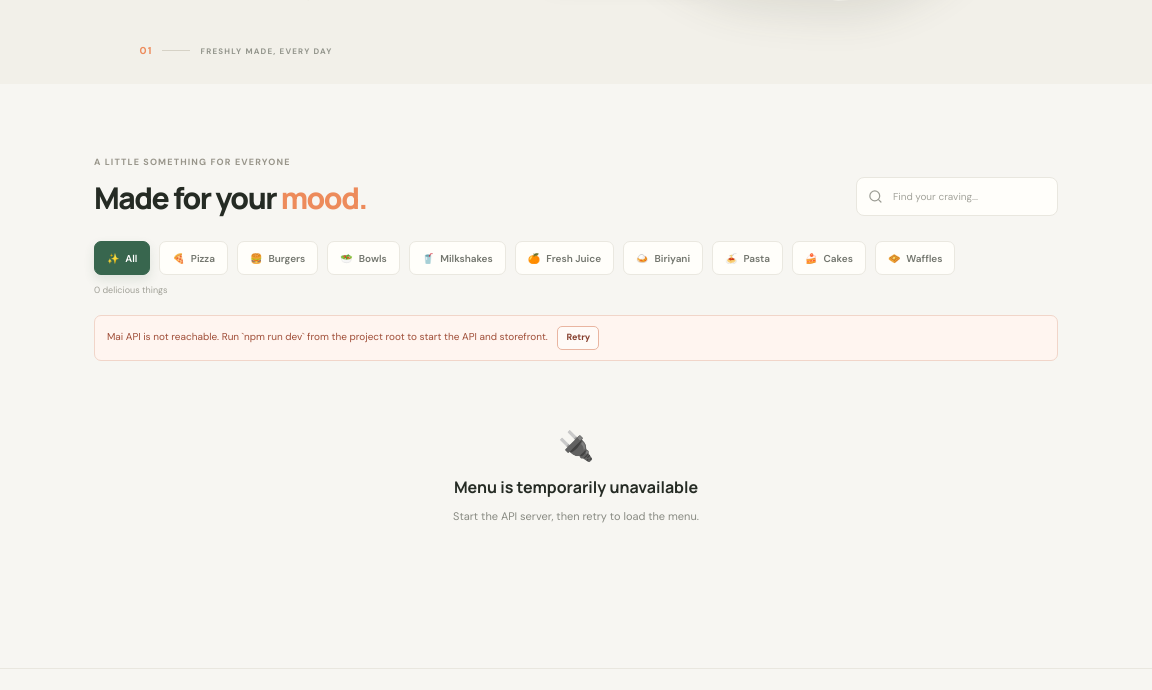
Test: Mai ordering experience › explains an unavailable API and retries loading the menu
(page scrolled)
Expected: the message shows "Mai API is not reachable", [107, 330, 548, 343]
Click the button "Retry".
click(578, 338)  # box [558, 326, 599, 350]
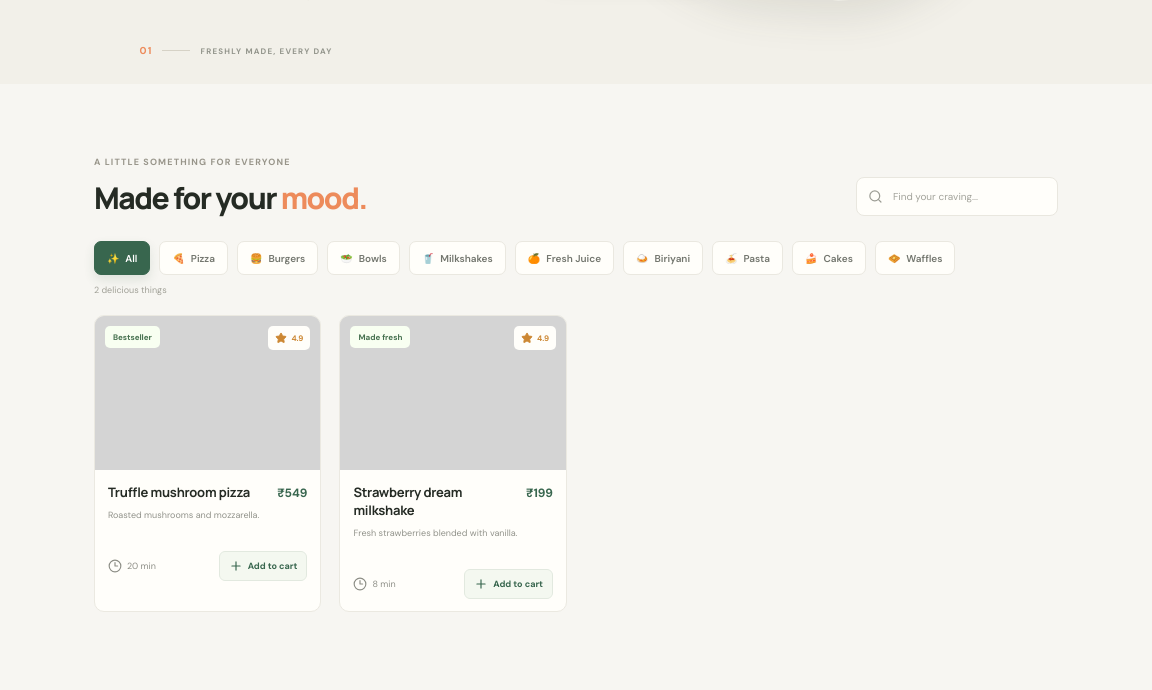
Expected: the heading "Truffle mushroom pizza" is shown, [108, 483, 250, 501]
